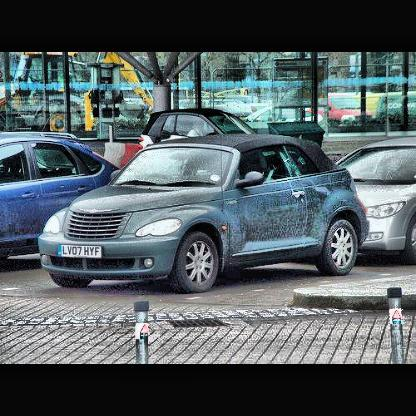Chrysler PT Cruiser Convertible 2008: (41, 136, 372, 293)
